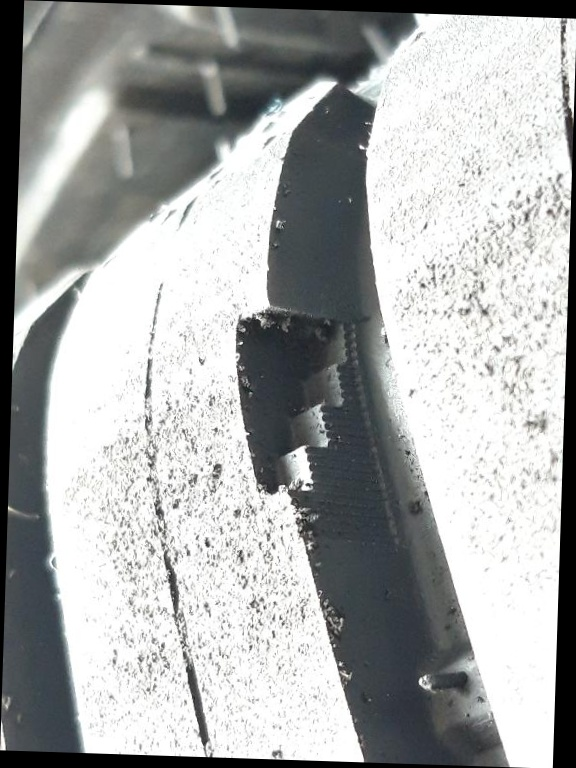temoin:95: (212, 288, 403, 555)
